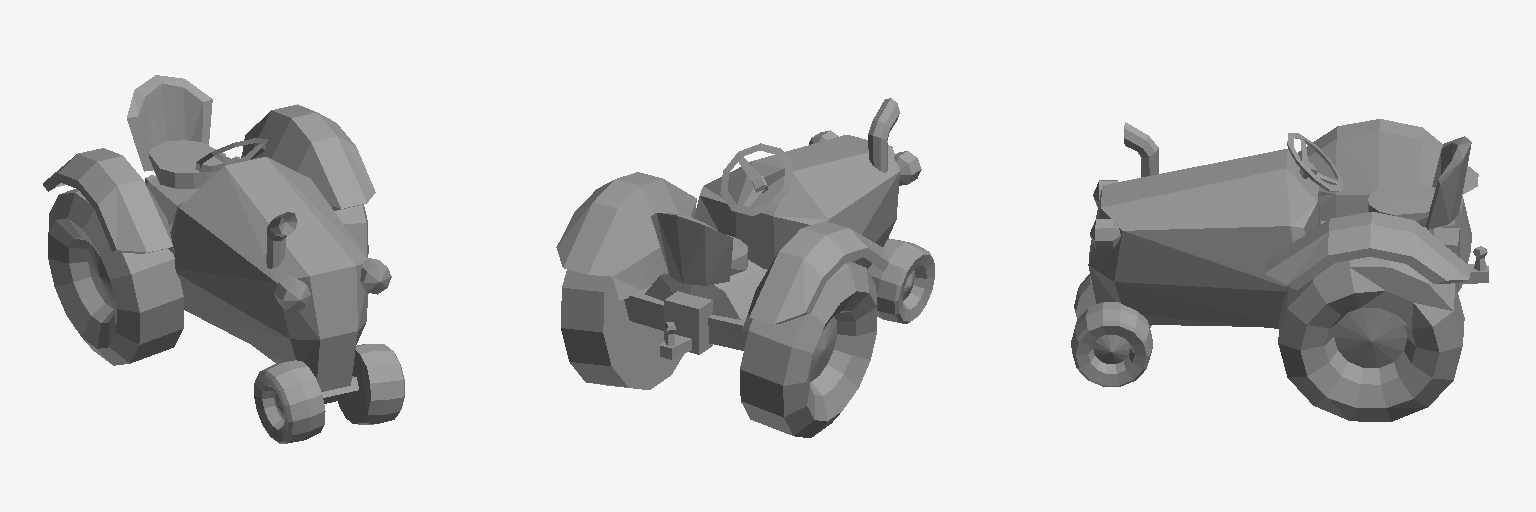
The model's file is farm_tractor_01.obj.
3 renders of one model, left to right at view 1: azimuth 30°, elevation 25°; view 2: azimuth 150°, elevation 25°; view 3: azimuth 270°, elevation 25°, orthographic.
Visible parts, largest first — view 1: farm_tractor_farm_tractor_mesh; view 2: farm_tractor_farm_tractor_mesh; view 3: farm_tractor_farm_tractor_mesh.
Part boxes in pixels (x1,y1,x2,y2): farm_tractor_farm_tractor_mesh: (43, 75, 404, 443); farm_tractor_farm_tractor_mesh: (556, 98, 934, 437); farm_tractor_farm_tractor_mesh: (1071, 119, 1488, 421).
Size of the model in its own units: 0.9213 by 0.7716 by 1.28.